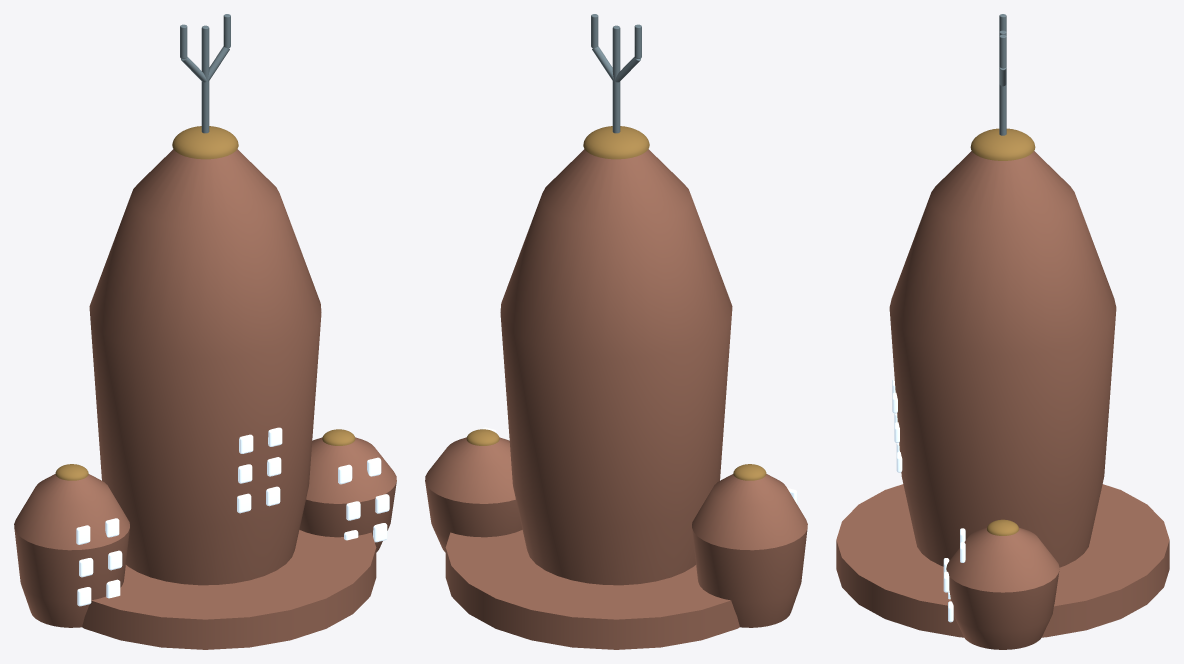
3 renders of one model, left to right at view 1: azimuth 30°, elevation 25°; view 2: azimuth 150°, elevation 25°; view 3: azimuth 270°, elevation 25°, orthographic. The views are drawn at different scales.
Parts seen in each view (by area): view 1: Bulb shaped chamber, Foundation drum, Bulb shaped chamber.002, Bulb shaped chamber.001, Tower crown, Aerial stem; view 2: Bulb shaped chamber, Foundation drum, Bulb shaped chamber.002, Bulb shaped chamber.001, Tower crown, Aerial stem; view 3: Bulb shaped chamber, Foundation drum, Bulb shaped chamber.001, Tower crown.
Part boxes in pixels (<box>): Bulb shaped chamber: <box>89,149,321,585</box>; Foundation drum: <box>82,530,376,649</box>; Bulb shaped chamber.002: <box>14,474,129,627</box>; Bulb shaped chamber.001: <box>299,437,396,552</box>; Tower crown: <box>172,126,238,159</box>; Aerial stem: <box>201,25,209,133</box>; Bulb shaped chamber: <box>500,149,732,585</box>; Foundation drum: <box>445,530,739,649</box>; Bulb shaped chamber.002: <box>692,474,807,627</box>; Bulb shaped chamber.001: <box>425,437,522,552</box>; Tower crown: <box>583,126,649,159</box>; Aerial stem: <box>612,25,620,133</box>; Bulb shaped chamber: <box>889,151,1116,567</box>; Foundation drum: <box>836,484,1169,637</box>; Bulb shaped chamber.001: <box>946,527,1059,649</box>; Tower crown: <box>970,128,1035,160</box>.
Size of the model in its own units: 2.53 by 3.67 by 2.04.
